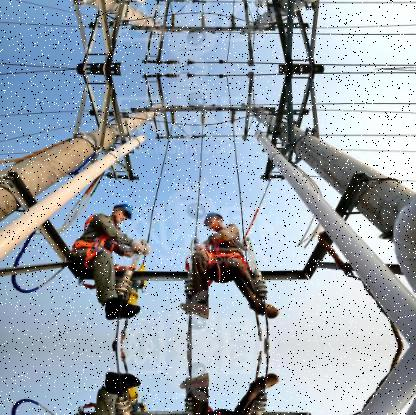helmet: (111, 196, 136, 223), (205, 210, 225, 231)
